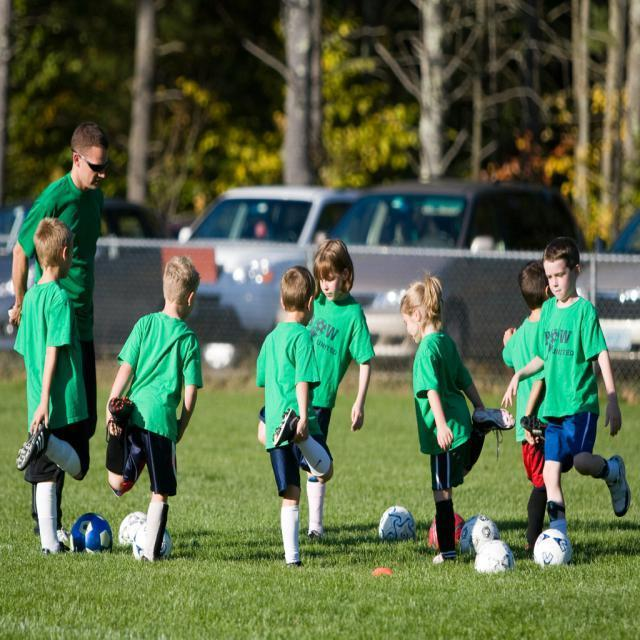football: (459, 515, 516, 588), (526, 518, 582, 581), (119, 506, 175, 567), (65, 498, 106, 566), (370, 504, 423, 556)
